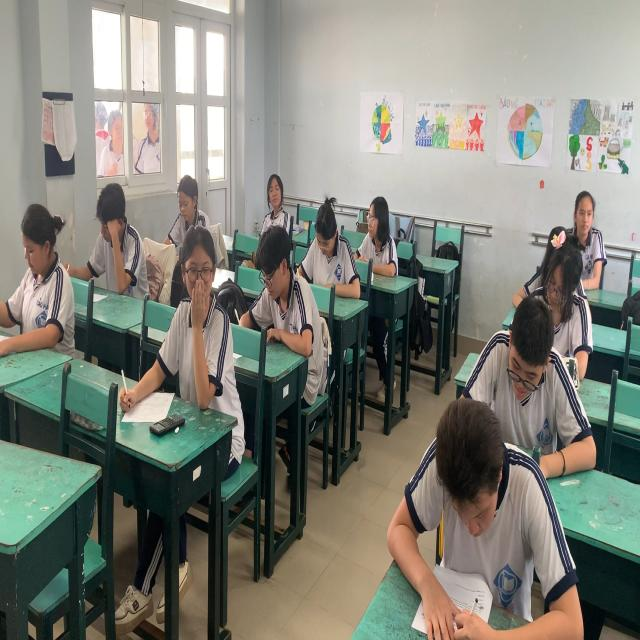cheating: (161, 215, 233, 405)
not_cheating: (396, 409, 572, 640), (484, 302, 585, 485), (6, 198, 84, 344), (250, 226, 320, 368), (526, 236, 596, 377), (86, 178, 146, 291), (305, 195, 359, 301), (566, 184, 604, 301), (160, 160, 206, 250), (354, 194, 400, 284), (254, 174, 294, 232)
